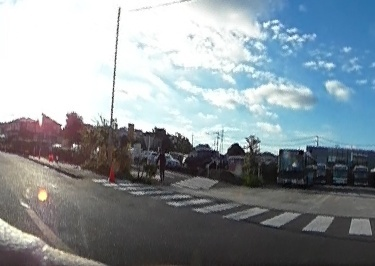person: (157, 149, 166, 180)
